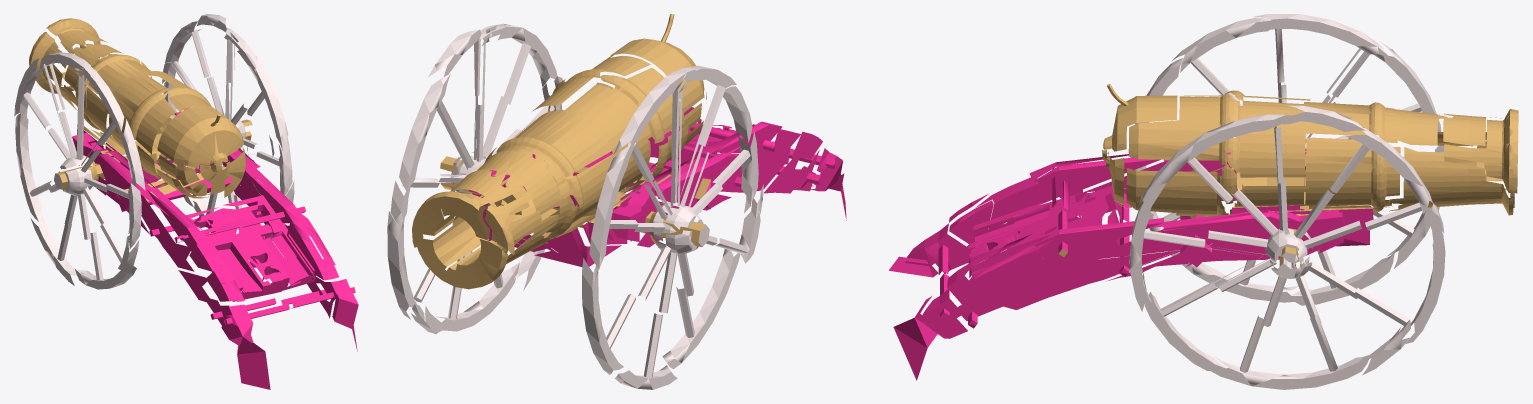
File: cannon-explosion.gltf
3 renders of one model, left to right at view 1: azimuth 30°, elevation 25°; view 2: azimuth 150°, elevation 25°; view 3: azimuth 270°, elevation 25°, orthographic. The views are drawn at different scales.
Visible parts, largest first — view 1: cannon.035, cannon.036, cannon.063, cannon.156, cannon.130, cannon.017, cannon.084, cannon.182, cannon.019, cannon.009, cannon.070, cannon.197 (+49 smaller); view 2: cannon.017, cannon.063, cannon.004, cannon.006, cannon.085, cannon.053, cannon.035, cannon.120, cannon.051, cannon.002, cannon.084, cannon.029 (+52 smaller); view 3: cannon.055, cannon.005, cannon.003, cannon.130, cannon.018, cannon.032, cannon.051, cannon.181, cannon.156, cannon.036, cannon.068, cannon.061 (+45 smaller).
Boxes of the visible parts, left/top/right/bottom form: cannon.035: left=157, top=105, right=243, bottom=168; cannon.036: left=208, top=219, right=300, bottom=289; cannon.063: left=105, top=76, right=175, bottom=154; cannon.156: left=226, top=27, right=288, bottom=150; cannon.130: left=245, top=170, right=335, bottom=303; cannon.017: left=81, top=54, right=158, bottom=92; cannon.084: left=15, top=113, right=41, bottom=221; cannon.182: left=237, top=343, right=270, bottom=389; cannon.019: left=287, top=221, right=338, bottom=280; cannon.009: left=222, top=195, right=315, bottom=279; cannon.070: left=193, top=204, right=273, bottom=238; cannon.197: left=140, top=194, right=194, bottom=271; cannon.017: left=496, top=110, right=611, bottom=182; cannon.063: left=580, top=67, right=684, bottom=156; cannon.004: left=613, top=69, right=699, bottom=204; cannon.006: left=477, top=149, right=560, bottom=214; cannon.085: left=662, top=249, right=740, bottom=369; cannon.053: left=417, top=237, right=523, bottom=289; cannon.035: left=610, top=38, right=704, bottom=112; cannon.120: left=421, top=205, right=489, bottom=275; cannon.051: left=412, top=191, right=482, bottom=247; cannon.002: left=589, top=144, right=631, bottom=269; cannon.084: left=582, top=257, right=623, bottom=374; cannon.029: left=399, top=73, right=450, bottom=192; cannon.055: left=1305, top=137, right=1400, bottom=207; cannon.005: left=1128, top=93, right=1239, bottom=164; cannon.003: left=1389, top=147, right=1513, bottom=215; cannon.130: left=966, top=218, right=1164, bottom=309; cannon.018: left=1226, top=105, right=1305, bottom=173; cannon.032: left=1126, top=168, right=1228, bottom=216; cannon.051: left=1444, top=109, right=1518, bottom=193; cannon.181: left=1077, top=212, right=1279, bottom=276; cannon.156: left=1137, top=114, right=1299, bottom=218; cannon.036: left=968, top=200, right=1084, bottom=272; cannon.068: left=1208, top=354, right=1370, bottom=389; cannon.061: left=1034, top=218, right=1163, bottom=265.
Size of the model in its own units: 3.24 by 3.62 by 7.27.
